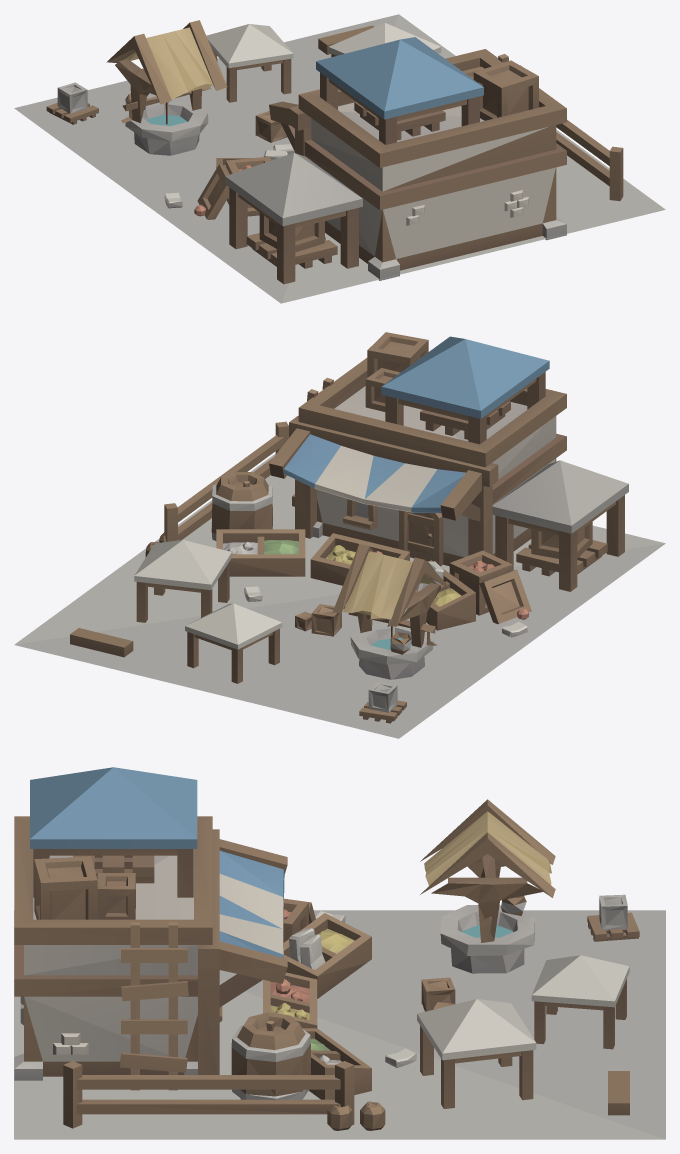
The model's file is market_small.l1.glb.
3 views of the same model, one above another, from view 1: azimuth 30°, elevation 25°; view 2: azimuth 150°, elevation 25°; view 3: azimuth 270°, elevation 25° (orthographic). The views are drawn at different scales.
Visible parts, largest first — view 1: market_small; view 2: market_small; view 3: market_small.
Part boxes in pixels (x1,y1,x2,y2): market_small: (14, 14, 665, 303); market_small: (14, 332, 665, 738); market_small: (14, 767, 665, 1139).
Size of the model in its own units: 4.96 by 2.44 by 5.96.
